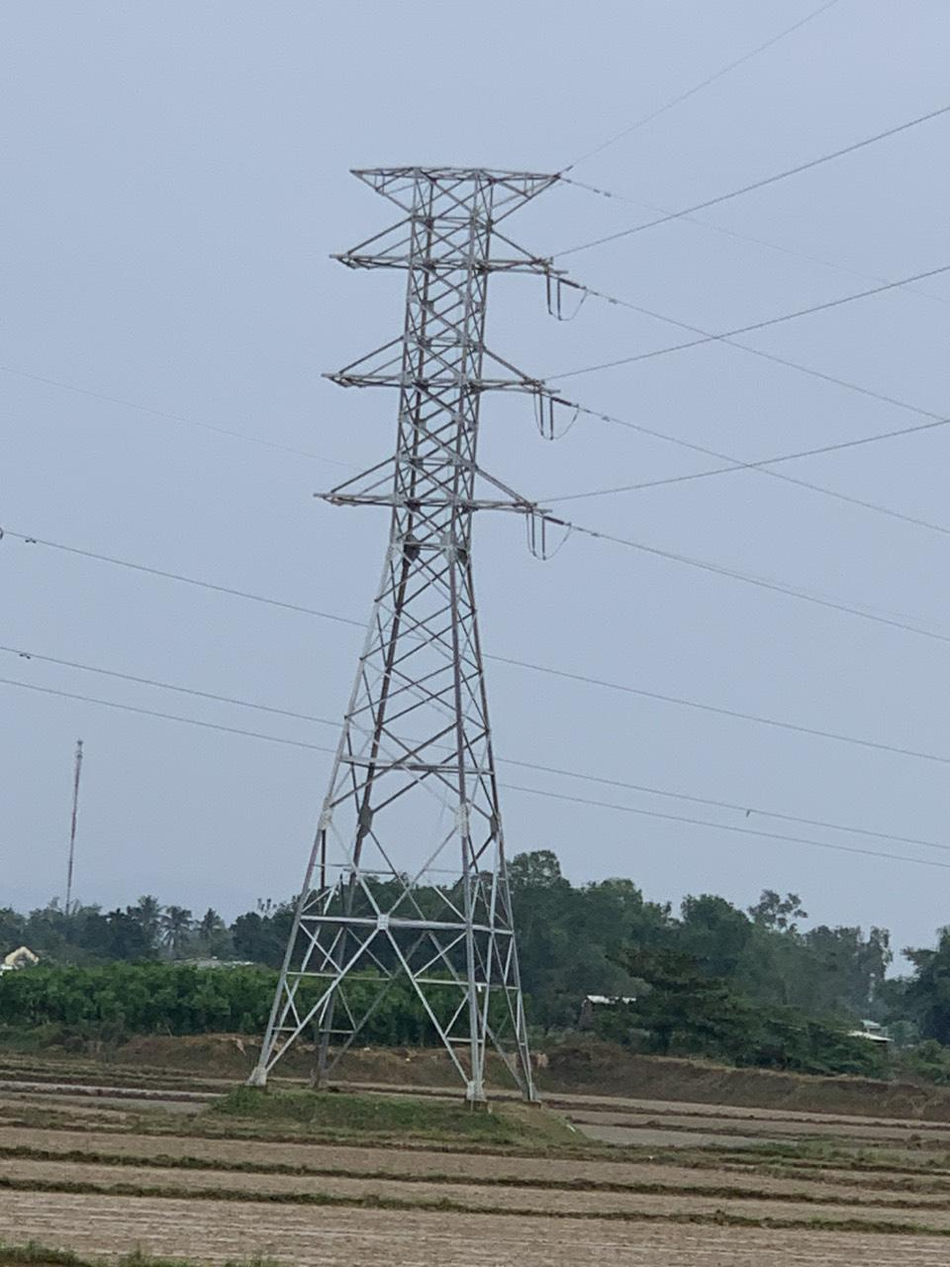power_tower: (261, 137, 566, 1105)
